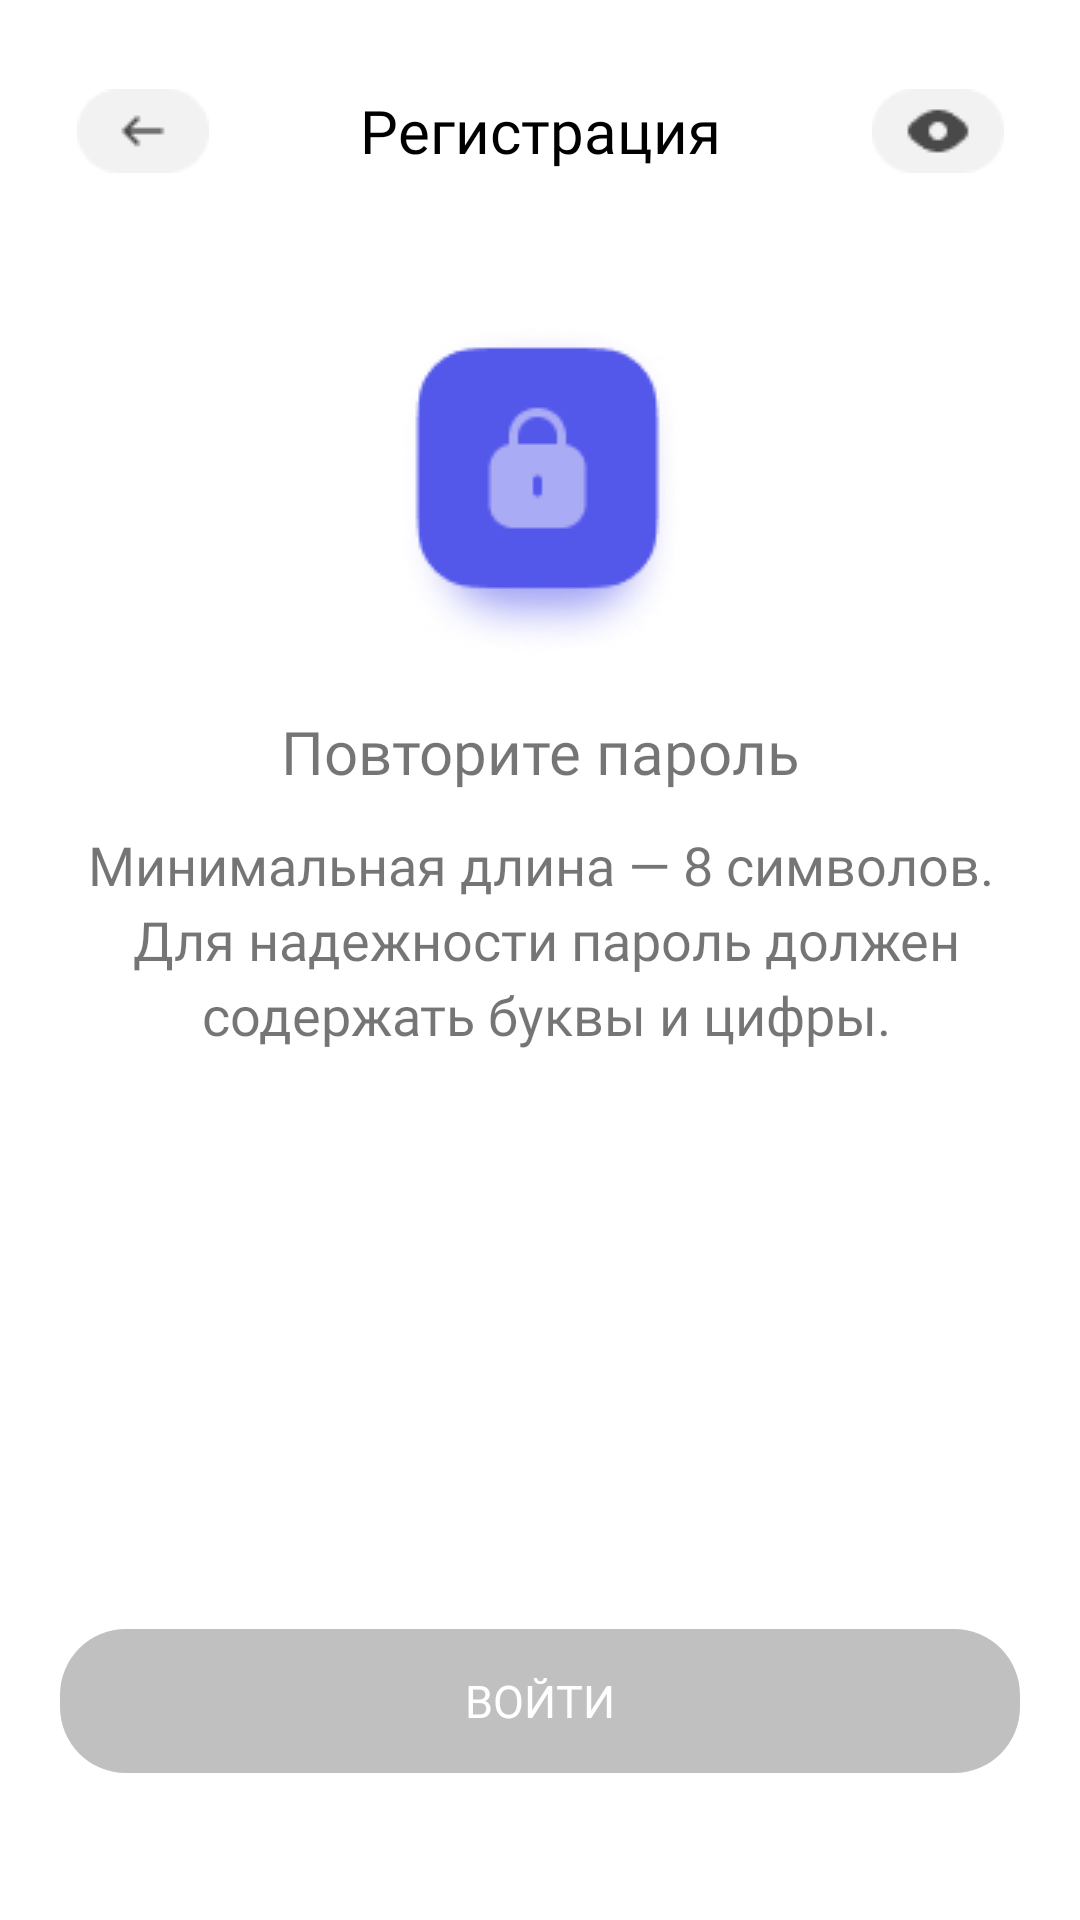

Icon bounding boxes for this 1080w x 1920h phone screenshot, format (x1, y1, x2, y2):
back: (77, 89, 209, 173)
hide and show password: (907, 109, 969, 153)
lockicon: (415, 347, 660, 623)
